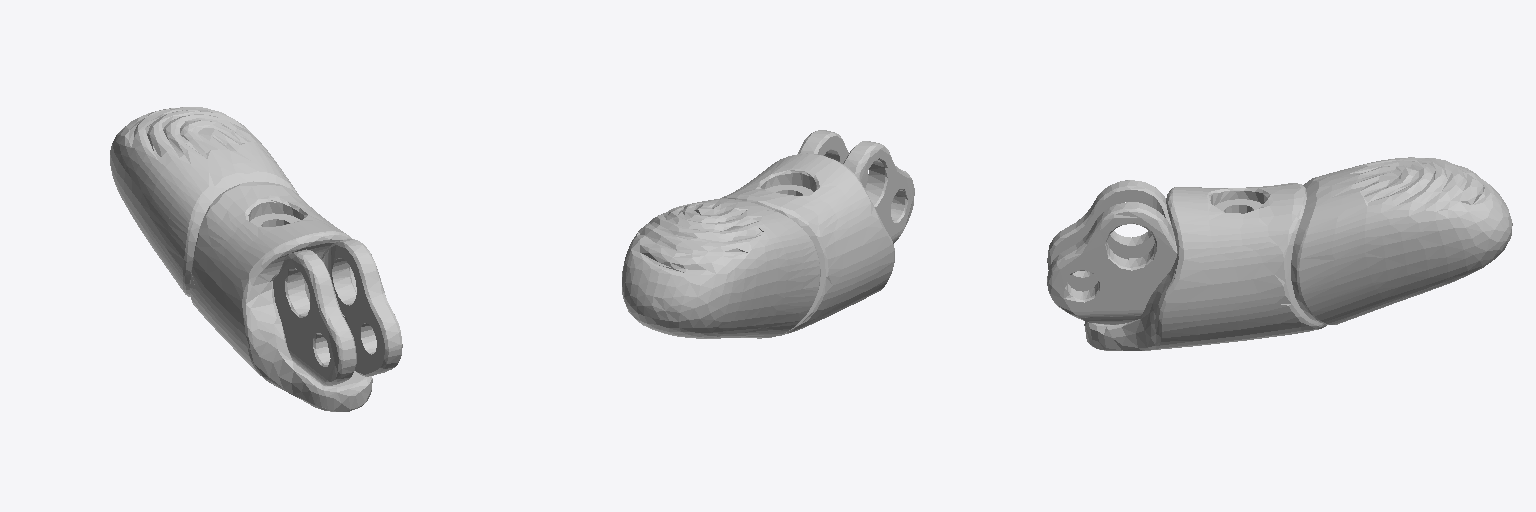
The model's file is R_pinky_distal.obj.
3 renders of one model, left to right at view 1: azimuth 30°, elevation 25°; view 2: azimuth 150°, elevation 25°; view 3: azimuth 270°, elevation 25°, orthographic.
Parts seen in each view (by area): view 1: R_pinky_distal; view 2: R_pinky_distal; view 3: R_pinky_distal.
Boxes of the visible parts, x1,y1,x2,y2 form: R_pinky_distal: [110, 107, 402, 411]; R_pinky_distal: [622, 130, 914, 338]; R_pinky_distal: [1047, 157, 1512, 350].
Size of the model in its own units: 0.0145 by 0.0176 by 0.0429.